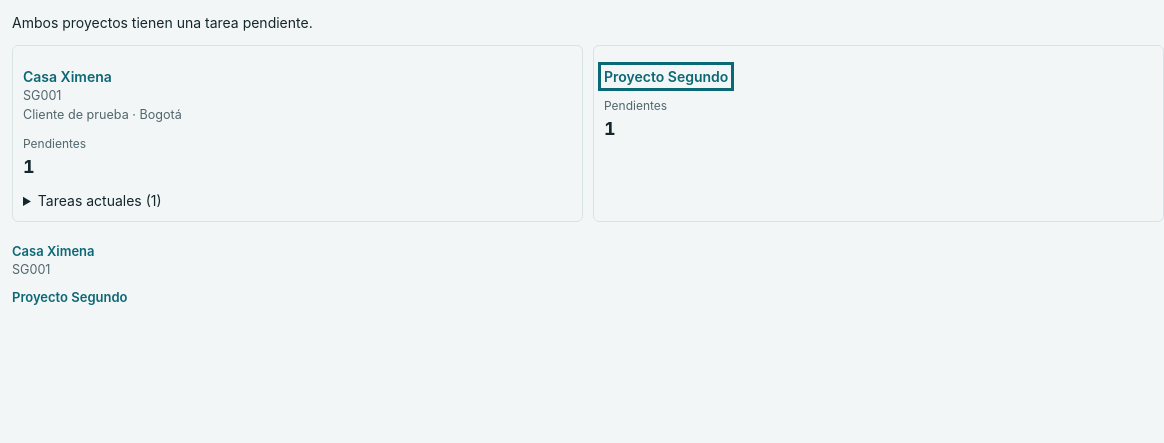
Scenario: Management 4A contracts and accessible presentation › renders ordered project articles with keyboard links, no table dependency or missing placeholders
Expected: the 1st text "Pendientes" is shown, [604, 98, 667, 113]
Press Enter
Click the heading "Tareas actuales (1)".
click(100, 200)  # box [38, 192, 162, 209]
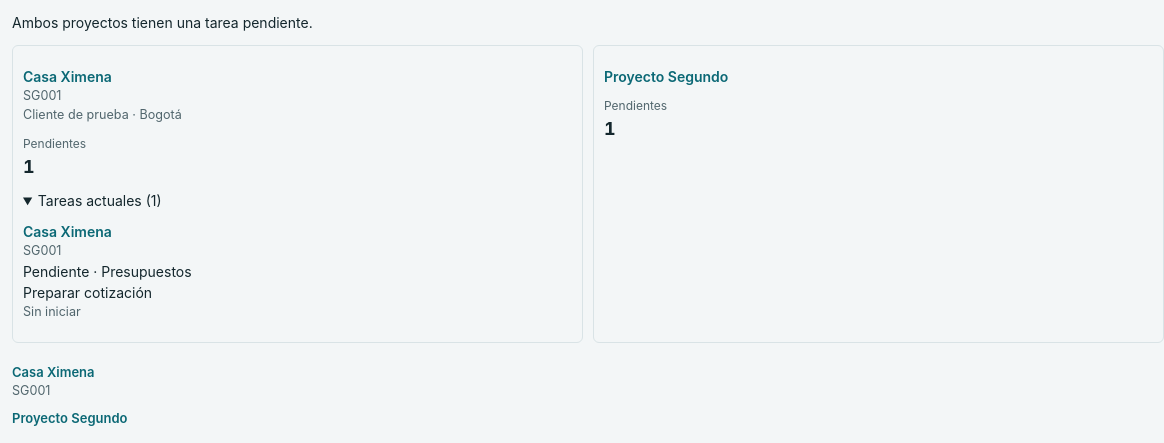
Expected: the text "Preparar cotización" is shown, [23, 284, 152, 301]
